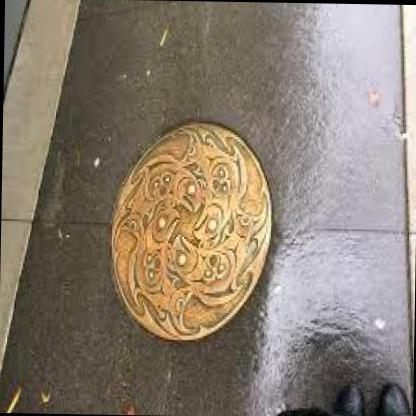manholes: (90, 82, 291, 364)
